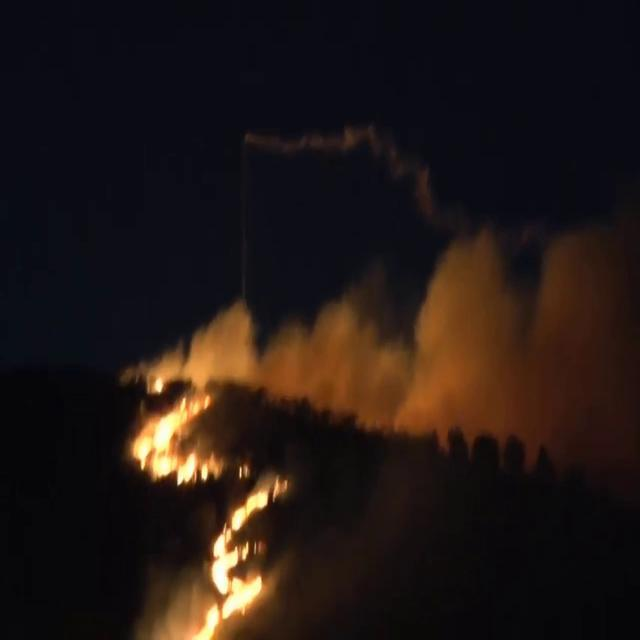Fire: (132, 370, 298, 628)
Smoke: (325, 274, 640, 443)
